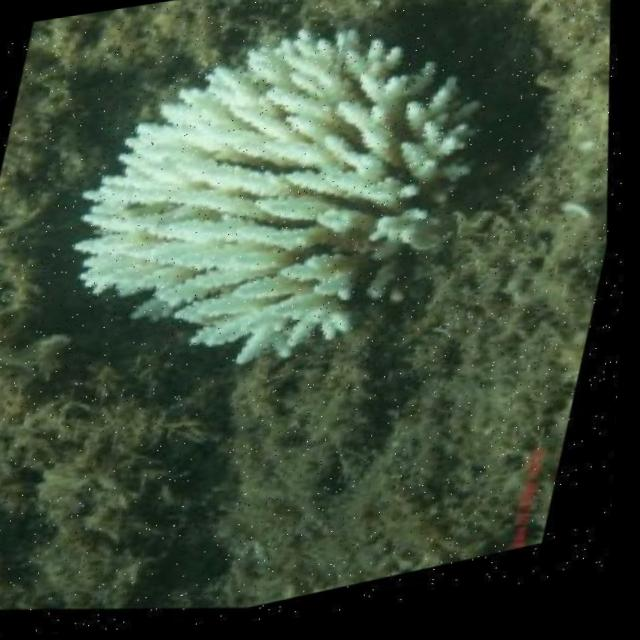Bleached Coral: (49, 3, 526, 401)
